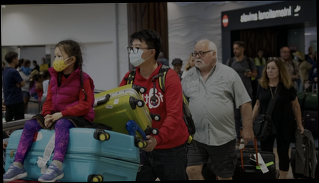with_mask: (127, 43, 150, 66), (51, 50, 69, 74)
without_mask: (191, 48, 210, 70), (265, 65, 278, 79), (280, 48, 292, 61), (232, 44, 242, 58), (172, 62, 182, 73)
